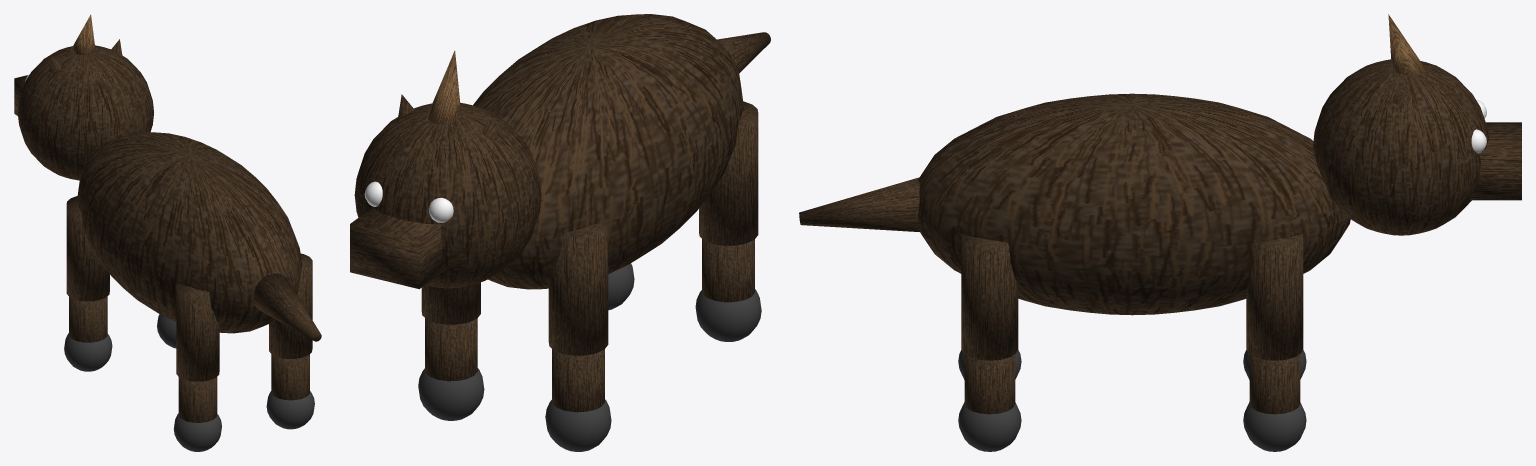
File: xiezhi.glb
3 renders of one model, left to right at view 1: azimuth 30°, elevation 25°; view 2: azimuth 150°, elevation 25°; view 3: azimuth 270°, elevation 25°, orthographic. The views are drawn at different scales.
Visible parts, largest first — view 1: Body, Head, LegUpper, LegUpper.001, Tail, LegUpper.002, LegLower, LegLower.001, LegLower.002, Paw.001, Paw.002, Paw (+2 smaller); view 2: Body, Head, LegUpper.001, Snout, LegUpper, LegLower, LegLower.001, LegLower.003, Paw.003, Paw.001, Paw, LegUpper.003 (+4 smaller); view 3: Body, Head, LegUpper.003, LegUpper.002, Tail, Snout, LegLower.002, LegLower.003, Paw.003, Paw.002, Horn.
Part boxes in pixels (x1,y1,x2,y2): Body: (77,132,301,333); Head: (17,45,153,180); LegUpper: (176,282,219,381); LegUpper.001: (66,196,109,301); Tail: (254,273,321,341); LegUpper.002: (269,253,312,358); LegLower: (178,377,217,422); LegLower.001: (69,296,107,342); LegLower.002: (271,354,309,400); Paw.001: (64,333,112,371); Paw.002: (266,391,314,429); Paw: (173,413,221,451); Body: (473,14,743,289); Head: (354,103,541,288); LegUpper.001: (548,220,608,355); Snout: (350,208,446,289); LegUpper: (699,101,758,245); LegLower: (702,239,754,302); LegLower.001: (552,349,604,412); LegLower.003: (425,318,477,381); Paw.003: (418,368,484,420); Paw.001: (545,399,611,451); Paw: (695,289,761,341); LegUpper.003: (421,282,480,324); Body: (918,93,1350,315); Head: (1313,59,1489,235); LegUpper.003: (1246,234,1303,360); LegUpper.002: (961,233,1018,360); Tail: (799,177,919,231); Snout: (1470,122,1521,200); LegLower.002: (964,354,1015,414); LegLower.003: (1249,354,1300,414); Paw.003: (1243,402,1306,451); Paw.002: (958,402,1021,451); Horn: (1388,14,1425,75).
Size of the model in its own units: 0.488 by 0.9856 by 1.59.
Materials: 4 (2 with a texture image).
